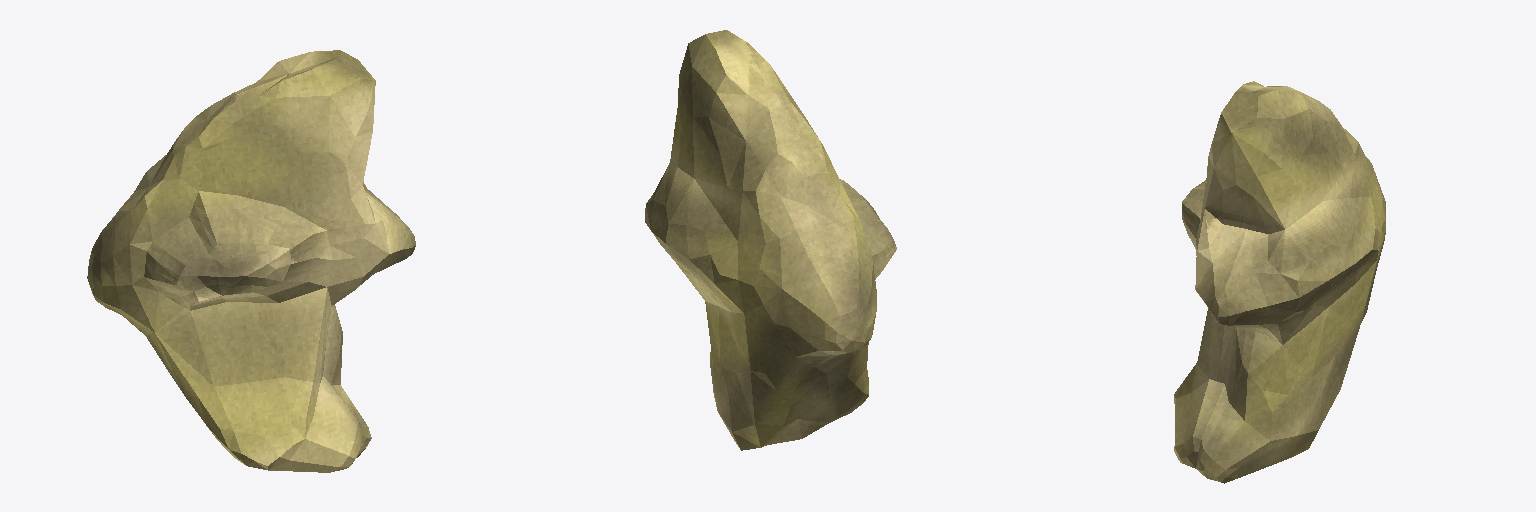
The picture shows the model from 3 angles: view 1: azimuth 30°, elevation 25°; view 2: azimuth 150°, elevation 25°; view 3: azimuth 270°, elevation 25°; orthographic projection.
Visible parts, largest first — view 1: art_goldfish_Icosphere; view 2: art_goldfish_Icosphere; view 3: art_goldfish_Icosphere.
Part boxes in pixels (bbox=[...]): art_goldfish_Icosphere: bbox=[87, 50, 415, 472]; art_goldfish_Icosphere: bbox=[645, 30, 896, 450]; art_goldfish_Icosphere: bbox=[1174, 81, 1385, 483].
Size of the model in its own units: 2.66 by 3.81 by 1.88.
1 materials, 1 textured.